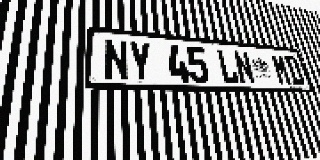4: (166, 44, 191, 83)
5: (186, 46, 210, 83)
D: (283, 55, 306, 86)
L: (216, 49, 240, 84)
M: (270, 54, 293, 85)
N: (104, 38, 129, 81), (232, 50, 256, 84)
Y: (128, 41, 153, 82)
